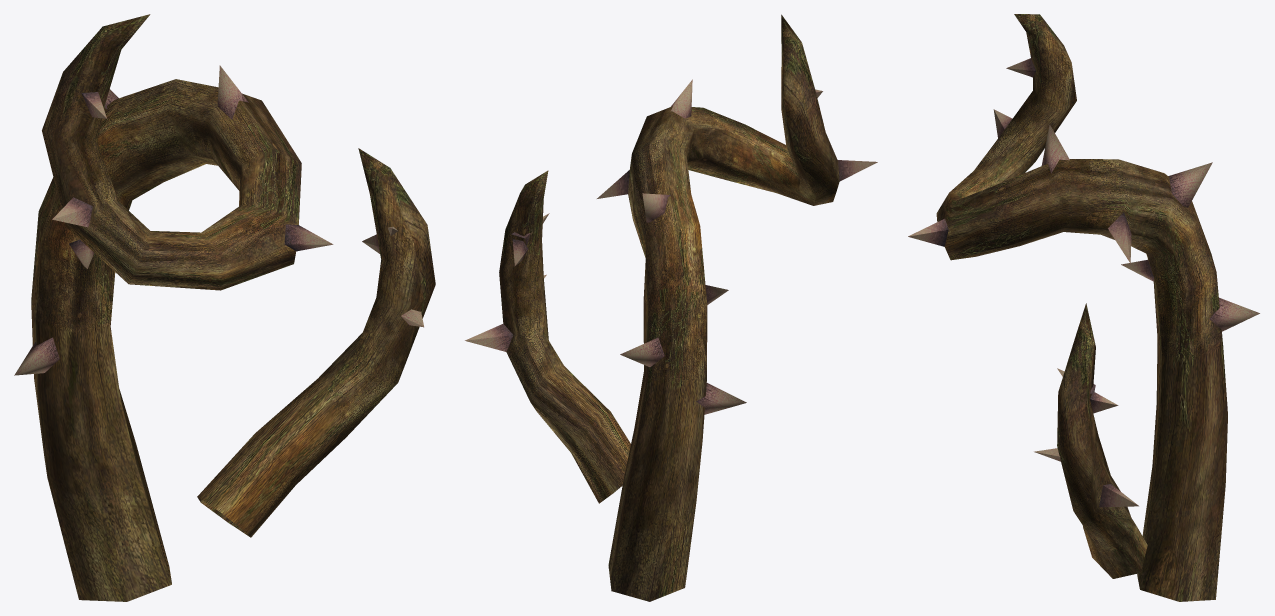
Rendered from obj_mtthund_thorn01a.fbx.
3 views of the same model, side by side, from view 1: azimuth 30°, elevation 25°; view 2: azimuth 150°, elevation 25°; view 3: azimuth 270°, elevation 25° (orthographic). The views are drawn at different scales.
Parts seen in each view (by area): view 1: obj_mtthund_thorn01A; view 2: obj_mtthund_thorn01A; view 3: obj_mtthund_thorn01A.
Boxes of the visible parts, <box> form: obj_mtthund_thorn01A: <box>14,14,435,601</box>; obj_mtthund_thorn01A: <box>465,14,877,601</box>; obj_mtthund_thorn01A: <box>908,14,1259,601</box>.
Bounding box in the file's own units: 10.16 × 14.86 × 8.62.
